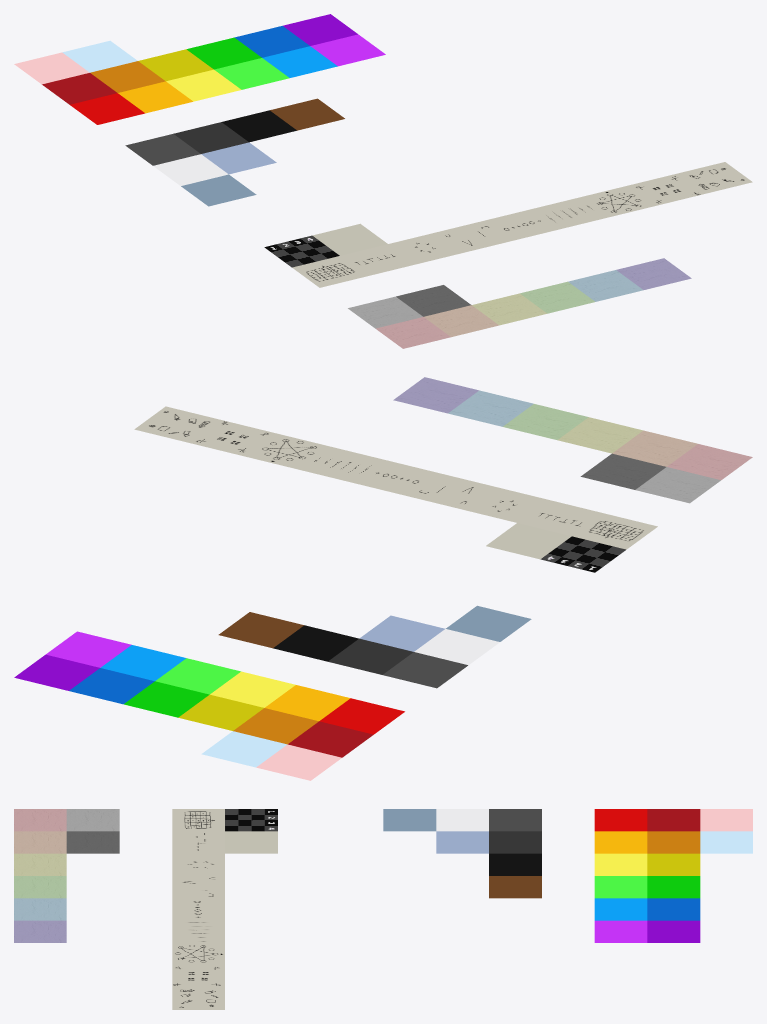
File: Resources.fbx
3 views of the same model, one above another, from view 1: azimuth 30°, elevation 25°; view 2: azimuth 150°, elevation 25°; view 3: azimuth 270°, elevation 25° (orthographic). The views are drawn at different scales.
Visible parts, largest first — view 1: Plane.002, Plane.010, Plane.015, Plane.028, Plane.037, Plane.001, Plane.008, Plane.011, Plane.016, Plane.017, Plane.018, Plane.019 (+27 smaller); view 2: Plane.025, Plane.039, Plane.015, Plane.016, Plane.019, Plane.026, Plane.028, Plane.036, Plane.038, Plane.002, Plane.008, Plane.009 (+27 smaller); view 3: Plane.001, Plane.004, Plane.008, Plane.011, Plane.033, Plane.007, Plane.009, Plane.010, Plane.012, Plane.032, Plane, Plane.002 (+27 smaller).
Boxes of the visible parts, x1,y1,x2,y2 form: Plane.002: [166, 69, 241, 101]; Plane.010: [186, 37, 261, 69]; Plane.015: [264, 235, 339, 267]; Plane.028: [472, 293, 547, 325]; Plane.037: [581, 185, 656, 217]; Plane.001: [118, 81, 192, 113]; Plane.008: [90, 61, 165, 92]; Plane.011: [234, 26, 309, 57]; Plane.016: [222, 110, 296, 142]; Plane.017: [292, 256, 367, 287]; Plane.018: [312, 223, 387, 255]; Plane.019: [340, 244, 415, 275]; Plane.025: [218, 612, 304, 648]; Plane.039: [134, 406, 219, 442]; Plane.015: [540, 536, 625, 572]; Plane.016: [273, 625, 358, 661]; Plane.019: [517, 500, 602, 536]; Plane.026: [612, 430, 697, 466]; Plane.028: [557, 417, 643, 453]; Plane.036: [298, 446, 384, 482]; Plane.038: [189, 419, 274, 455]; Plane.002: [210, 671, 295, 707]; Plane.008: [233, 708, 318, 744]; Plane.009: [178, 694, 263, 730]; Plane.001: [594, 831, 647, 853]; Plane.004: [594, 898, 647, 920]; Plane.008: [647, 831, 700, 853]; Plane.011: [647, 898, 700, 920]; Plane.033: [66, 831, 119, 853]; Plane.007: [647, 809, 700, 831]; Plane.009: [647, 853, 700, 875]; Plane.010: [647, 876, 700, 898]; Plane.012: [647, 920, 700, 942]; Plane.032: [66, 809, 119, 831]; Plane: [594, 809, 647, 831]; Plane.002: [594, 853, 647, 875].
Bounding box in the file's own units: 9 × 1.63e-07 × 14.
